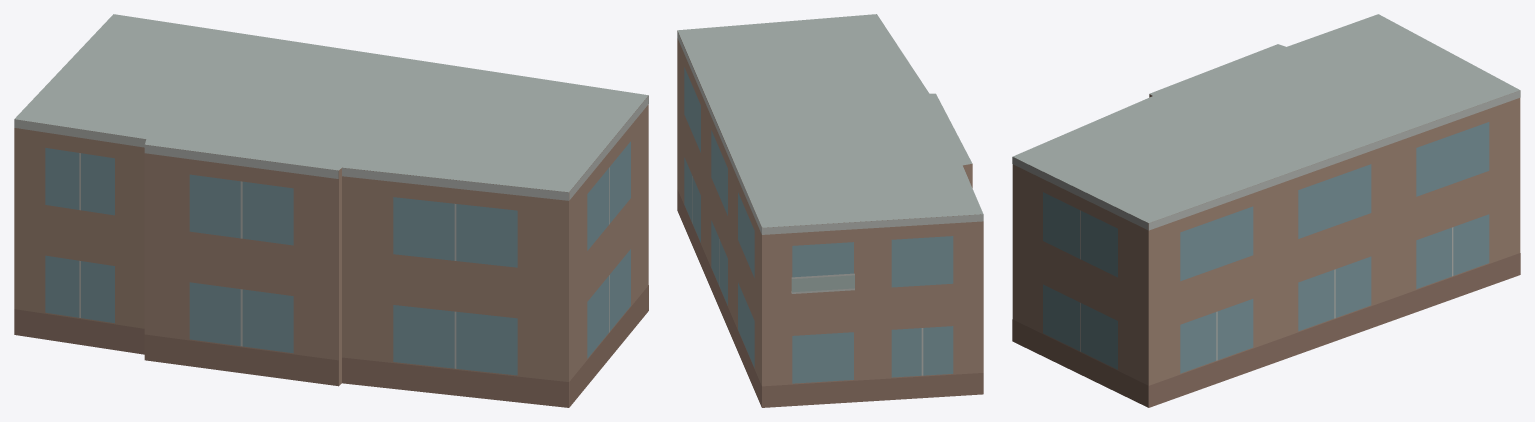
The model's file is survey-upis-32625504.glb.
3 views of the same model, side by side, from view 1: azimuth 30°, elevation 25°; view 2: azimuth 150°, elevation 25°; view 3: azimuth 270°, elevation 25° (orthographic). The views are drawn at different scales.
Parts seen in each view (by area): view 1: survey-upis-32625504.tmp; view 2: survey-upis-32625504.tmp; view 3: survey-upis-32625504.tmp.
Part boxes in pixels (x1,y1,x2,y2): survey-upis-32625504.tmp: (14,14,648,407); survey-upis-32625504.tmp: (677,14,983,407); survey-upis-32625504.tmp: (1012,14,1520,407).
Size of the model in its own units: 14.83 by 6.1 by 15.22.
